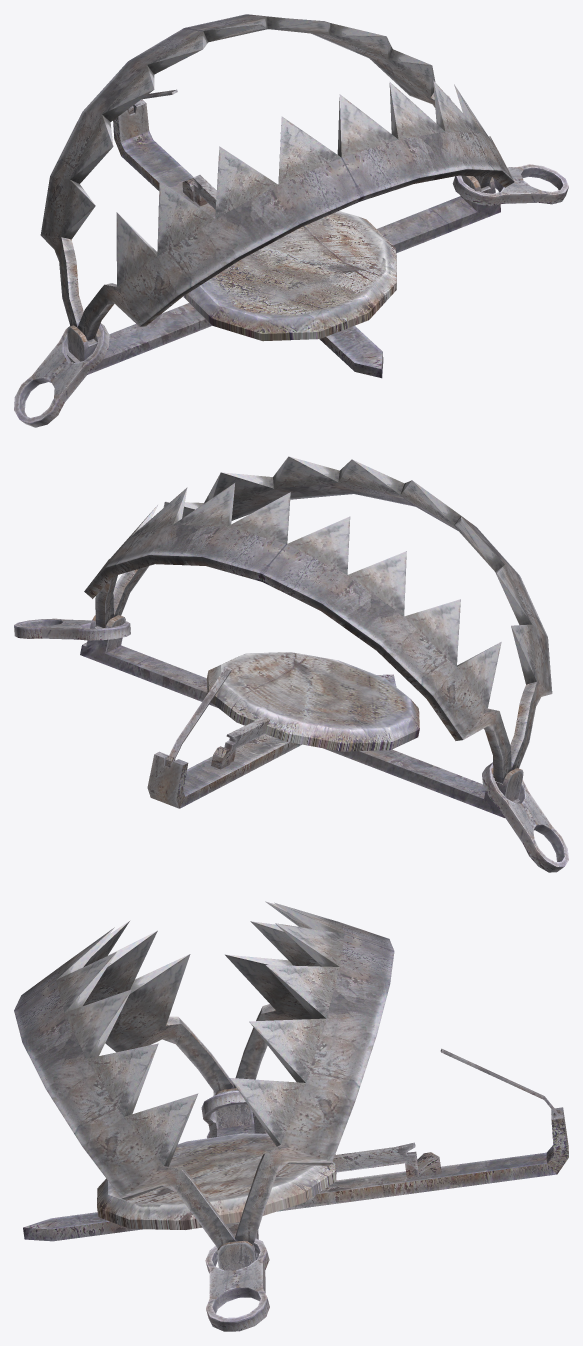
The picture shows the model from 3 angles, top to bottom: view 1: azimuth 30°, elevation 25°; view 2: azimuth 150°, elevation 25°; view 3: azimuth 270°, elevation 25°; orthographic projection. The views are drawn at different scales.
Visible parts, largest first — view 1: Trap_LeftSide, Trap_Center, Trap_RightSide, Trap_Cross, Trap_1, Trap_4; view 2: Trap_RightSide, Trap_Center, Trap_LeftSide, Trap_Cross, Trap_1, Trap_3, Trap_4; view 3: Trap_LeftSide, Trap_RightSide, Trap_Cross, Trap_Center, Trap_1, Trap_4, Trap_3.
Boxes of the visible parts, left/top/right/bottom form: Trap_LeftSide: left=78, top=80, right=514, bottom=340; Trap_Center: left=183, top=211, right=396, bottom=341; Trap_RightSide: left=40, top=14, right=450, bottom=327; Trap_Cross: left=67, top=99, right=500, bottom=378; Trap_1: left=14, top=164, right=568, bottom=427; Trap_4: left=193, top=175, right=216, bottom=209; Trap_RightSide: left=84, top=483, right=511, bottom=783; Trap_Center: left=206, top=652, right=419, bottom=751; Trap_LeftSide: left=113, top=456, right=552, bottom=770; Trap_Cross: left=80, top=615, right=523, bottom=817; Trap_1: left=14, top=618, right=568, bottom=872; Trap_3: left=169, top=667, right=231, bottom=764; Trap_4: left=224, top=717, right=270, bottom=762; Trap_LeftSide: left=14, top=921, right=235, bottom=1248; Trap_RightSide: left=225, top=901, right=394, bottom=1245; Trap_Cross: left=23, top=1088, right=568, bottom=1270; Trap_Center: left=97, top=1133, right=336, bottom=1229; Trap_1: left=201, top=1091, right=269, bottom=1331; Trap_4: left=332, top=1142, right=418, bottom=1177; Trap_3: left=440, top=1048, right=558, bottom=1115.
Bounding box in the file's own units: 143 × 82.37 × 112.
Materials: 1 (1 with a texture image).
